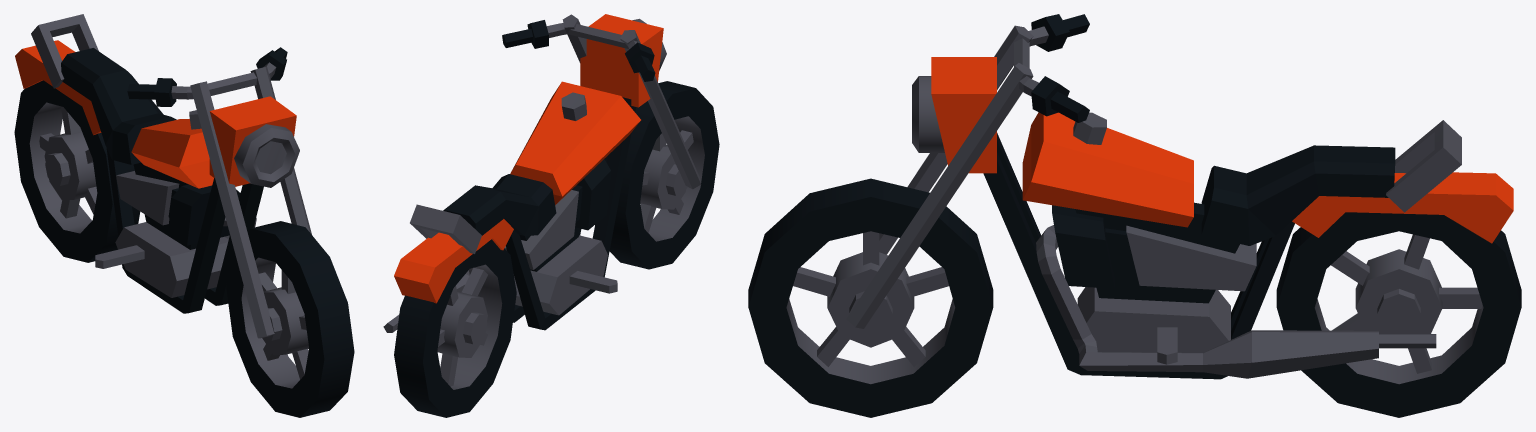
Rendered from Bike.fbx.
3 renders of one model, left to right at view 1: azimuth 30°, elevation 25°; view 2: azimuth 150°, elevation 25°; view 3: azimuth 270°, elevation 25°, orthographic. The views are drawn at different scales.
Visible parts, largest first — view 1: Bike; view 2: Bike; view 3: Bike.
Boxes of the visible parts, x1,y1,x2,y2 form: Bike: [14, 14, 354, 417]; Bike: [383, 14, 719, 417]; Bike: [748, 14, 1521, 417].
Bounding box in the file's own units: 32.14 × 55.77 × 108.
